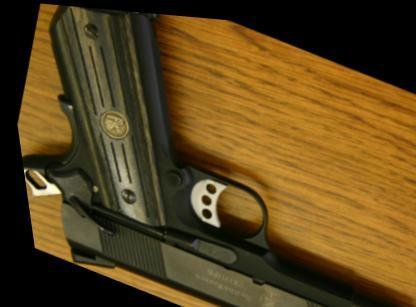pistol: (0, 0, 415, 305)
